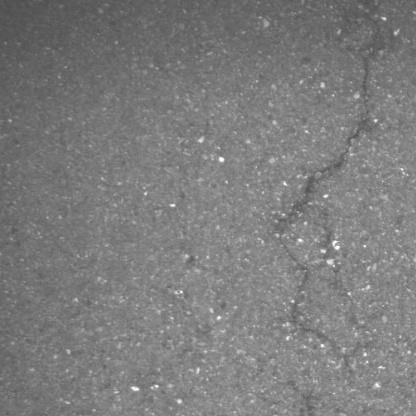Cracks: (275, 0, 389, 359), (272, 376, 327, 416)
